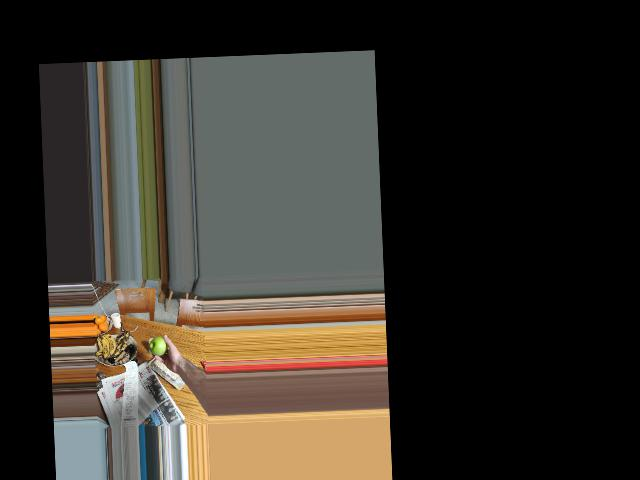apple: (148, 335, 171, 358)
